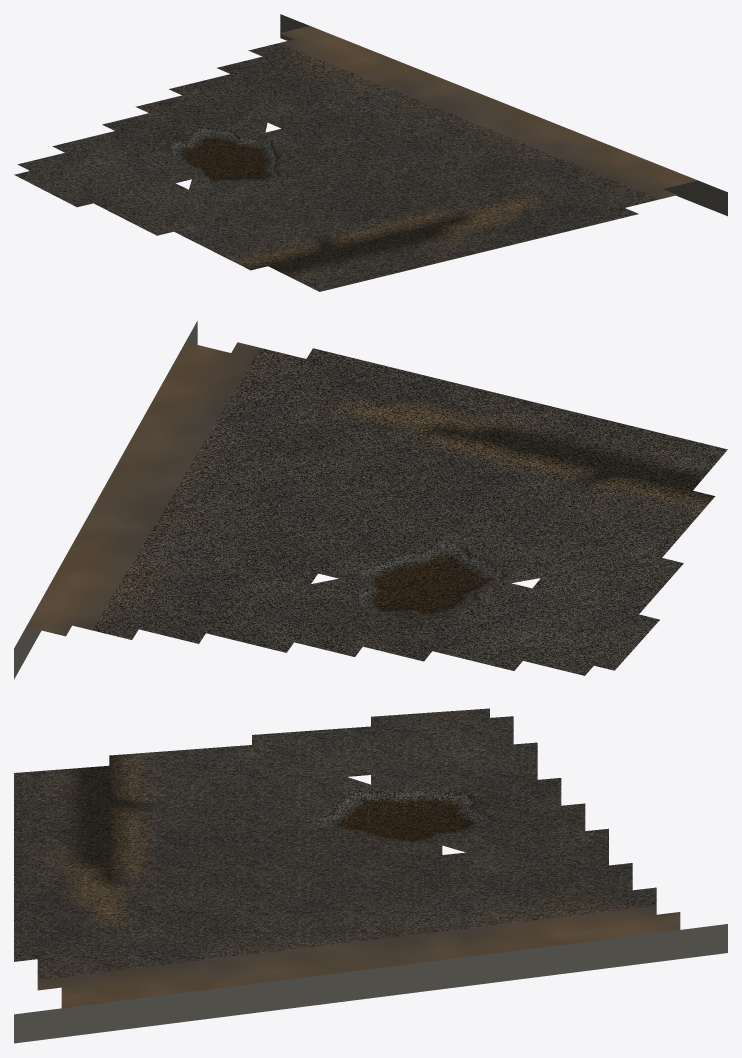
The model's file is contact-frontage.png.glb.
The picture shows the model from 3 angles, top to bottom: view 1: azimuth 30°, elevation 25°; view 2: azimuth 150°, elevation 25°; view 3: azimuth 270°, elevation 25°; orthographic projection. The views are drawn at different scales.
Parts seen in each view (by area): view 1: Runtime / REV15Z / Rooftop slab / 32m x 40m / asphalt replac; view 2: Runtime / REV15Z / Rooftop slab / 32m x 40m / asphalt replac; view 3: Runtime / REV15Z / Rooftop slab / 32m x 40m / asphalt replac.
Boxes of the visible parts, <box> form: Runtime / REV15Z / Rooftop slab / 32m x 40m / asphalt replac: <box>14,14,727,291</box>; Runtime / REV15Z / Rooftop slab / 32m x 40m / asphalt replac: <box>14,321,727,679</box>; Runtime / REV15Z / Rooftop slab / 32m x 40m / asphalt replac: <box>14,708,727,1043</box>.
Size of the model in its own units: 8.11 by 0.36 by 8.
6 materials, 5 textured.
